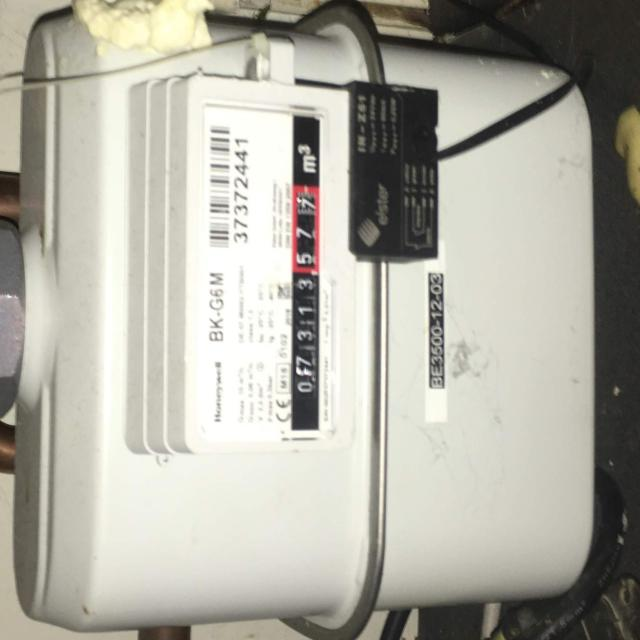gaz_meter: (195, 93, 344, 444)
indication: (292, 183, 320, 432)
